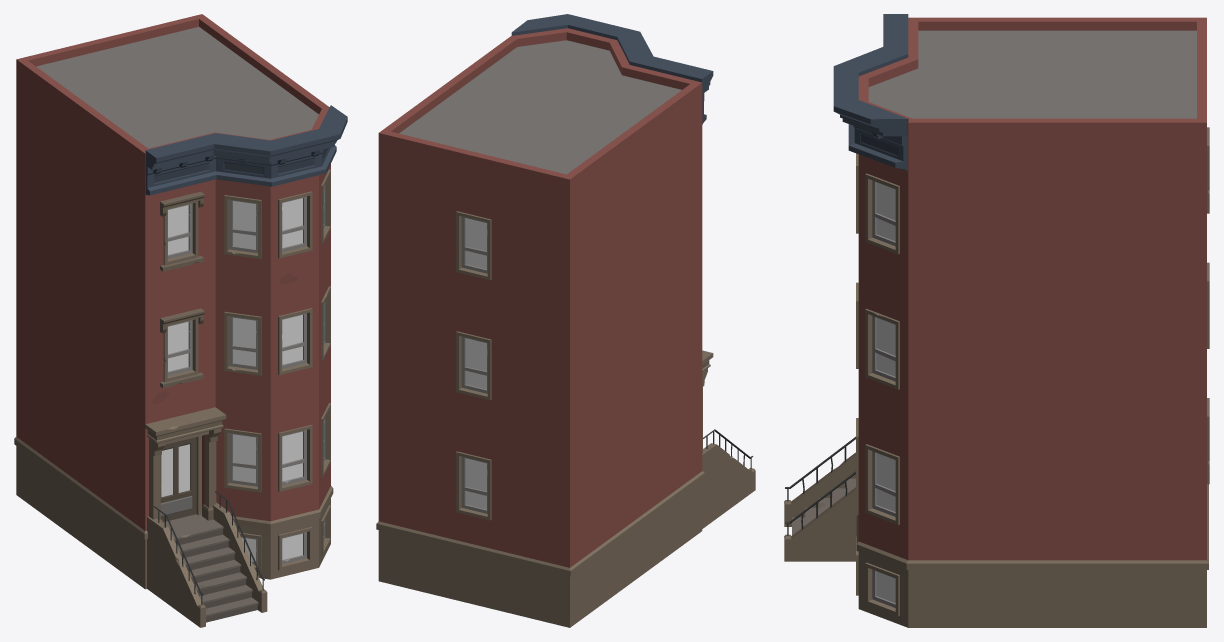
Rendered from SM_Bldg_City_Apartment_T2_3Floor_01.fbx.
3 views of the same model, side by side, from view 1: azimuth 30°, elevation 25°; view 2: azimuth 150°, elevation 25°; view 3: azimuth 270°, elevation 25° (orthographic). The views are drawn at different scales.
Parts seen in each view (by area): view 1: SM_Bldg_City_Apartment_T2_3Floor_01, SM_Bldg_City_Apartment_T2_3Floor_01_Glass, SM_Bldg_City_Apartment_T2_3Floor_01_Door; view 2: SM_Bldg_City_Apartment_T2_3Floor_01, SM_Bldg_City_Apartment_T2_3Floor_01_Glass; view 3: SM_Bldg_City_Apartment_T2_3Floor_01, SM_Bldg_City_Apartment_T2_3Floor_01_Glass.
Boxes of the visible parts, left/top/right/bottom form: SM_Bldg_City_Apartment_T2_3Floor_01: left=14, top=14, right=347, bottom=627; SM_Bldg_City_Apartment_T2_3Floor_01_Glass: left=168, top=198, right=302, bottom=560; SM_Bldg_City_Apartment_T2_3Floor_01_Door: left=160, top=437, right=196, bottom=522; SM_Bldg_City_Apartment_T2_3Floor_01: left=376, top=14, right=755, bottom=627; SM_Bldg_City_Apartment_T2_3Floor_01_Glass: left=465, top=218, right=487, bottom=509; SM_Bldg_City_Apartment_T2_3Floor_01: left=784, top=14, right=1209, bottom=627; SM_Bldg_City_Apartment_T2_3Floor_01_Glass: left=876, top=182, right=895, bottom=602.
Size of the model in its own units: 508 by 1128 by 854.
